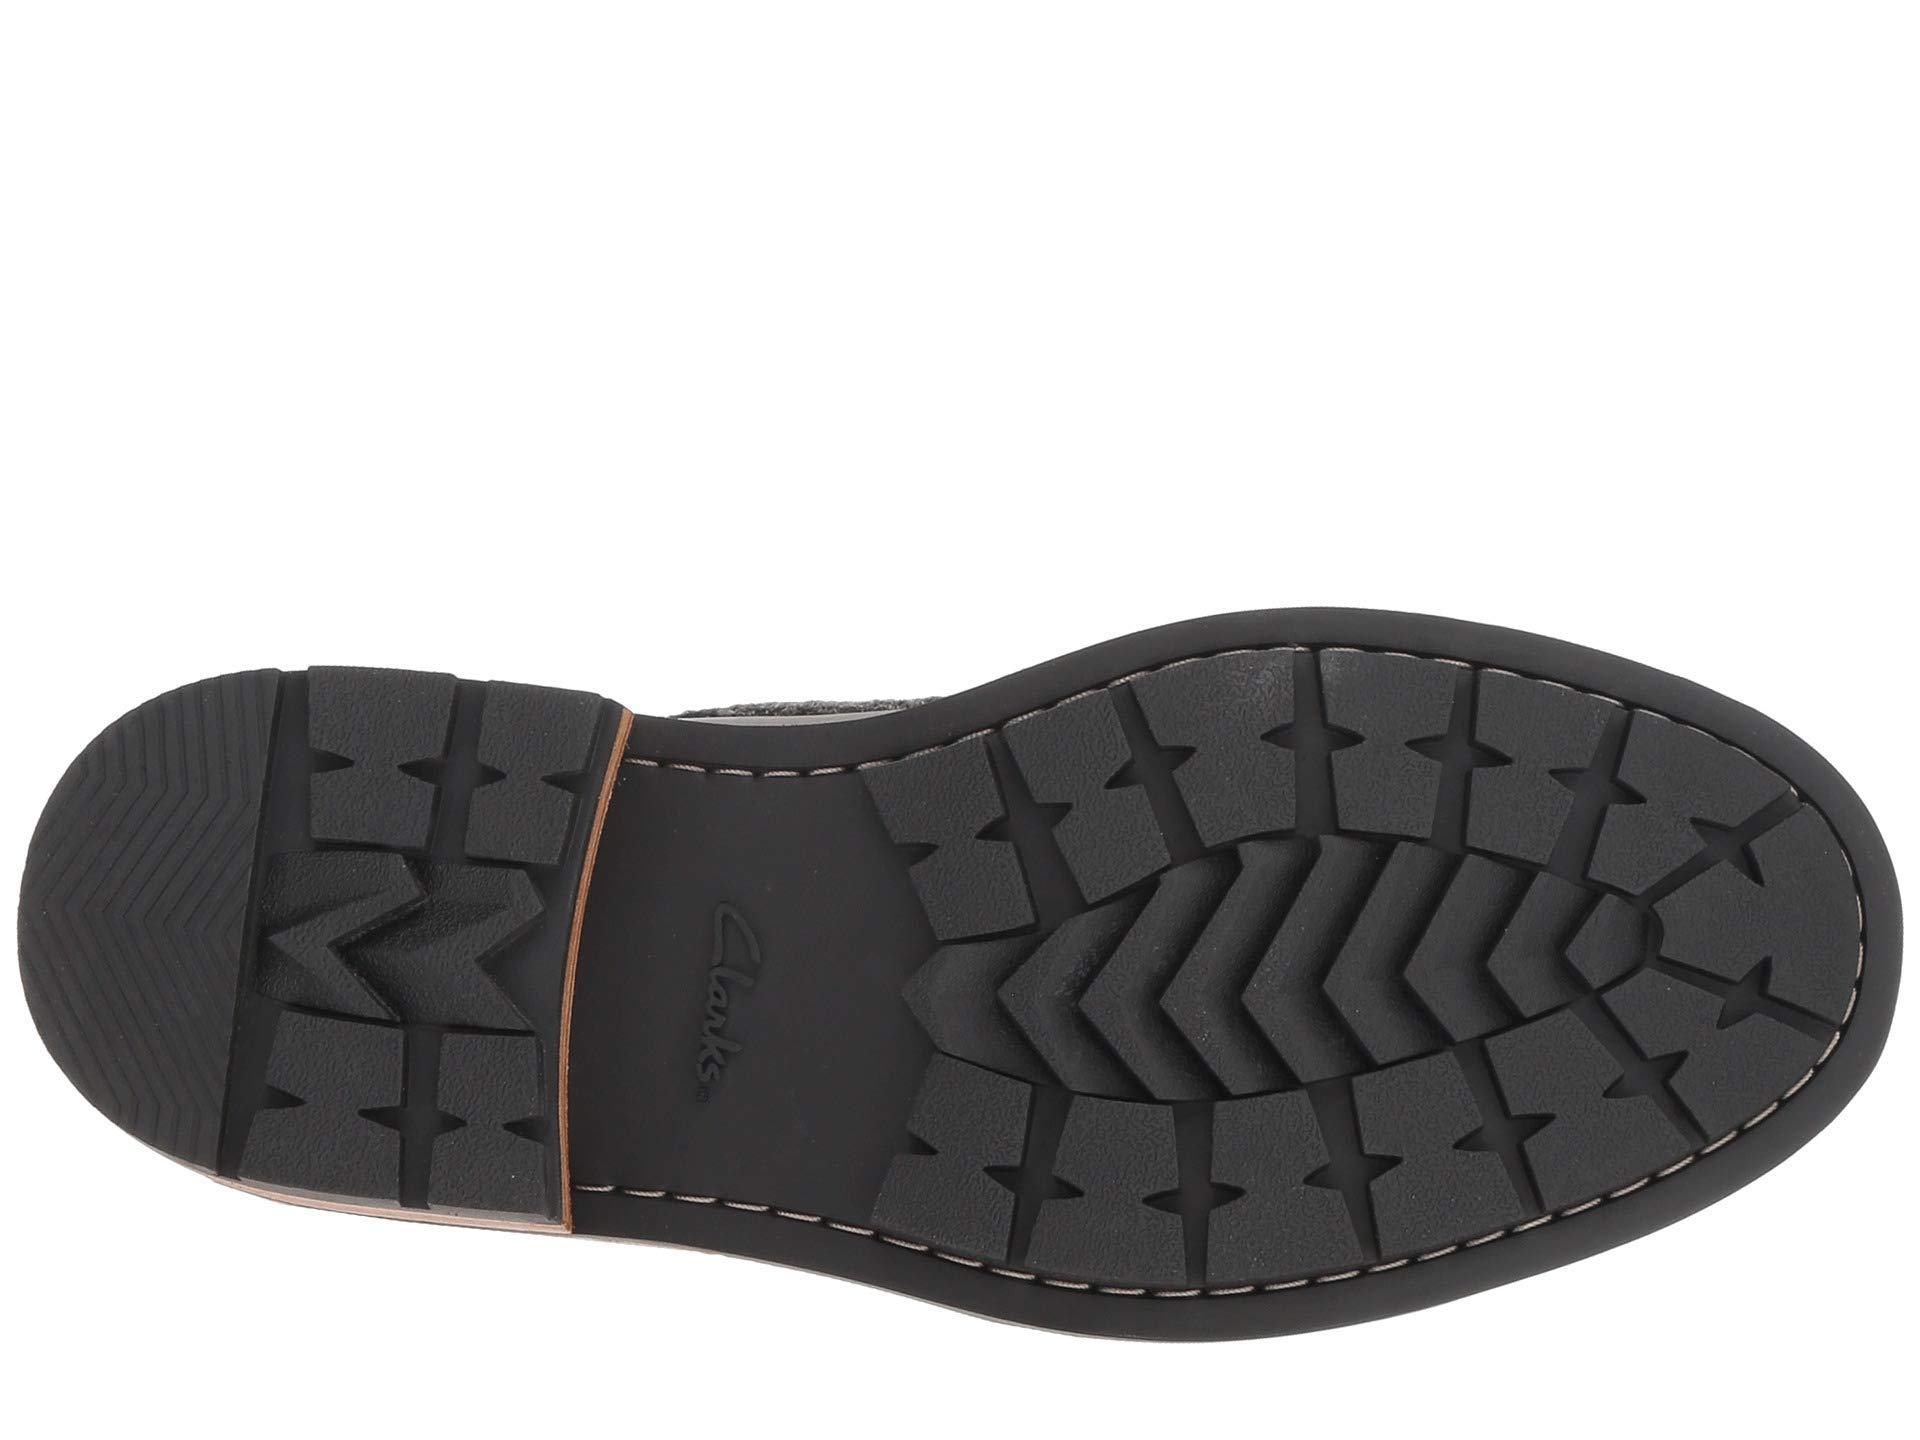bowtie: (859, 1051, 1512, 1296), (1098, 669, 1618, 852), (289, 664, 602, 873), (266, 1001, 552, 1225), (1657, 814, 1884, 1023)
chevron: (963, 858, 1630, 1057), (80, 734, 246, 1115)
